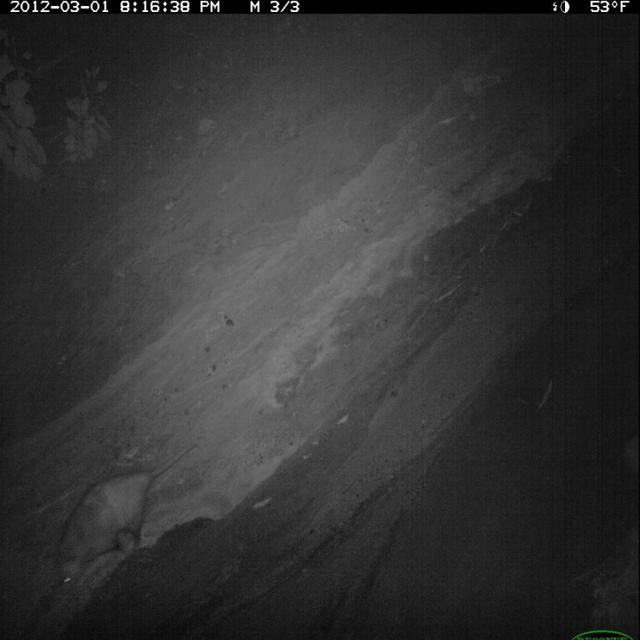opossum: (52, 435, 203, 598)
